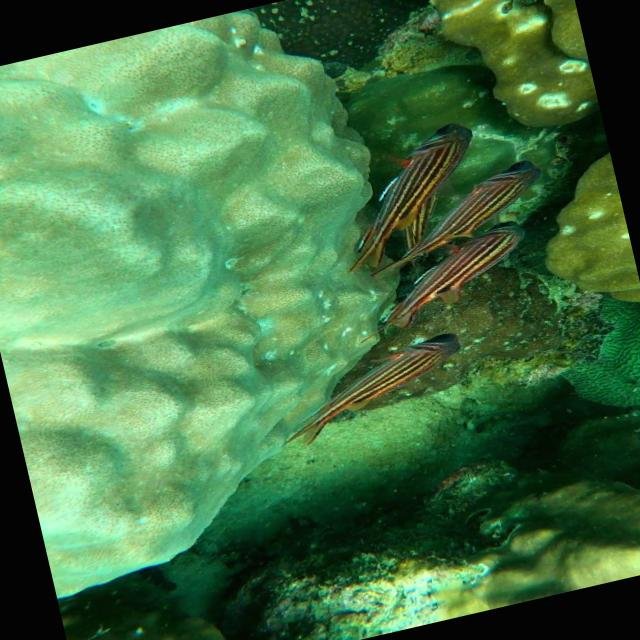Asker Baligi: (297, 100, 511, 278), (259, 318, 494, 458)
